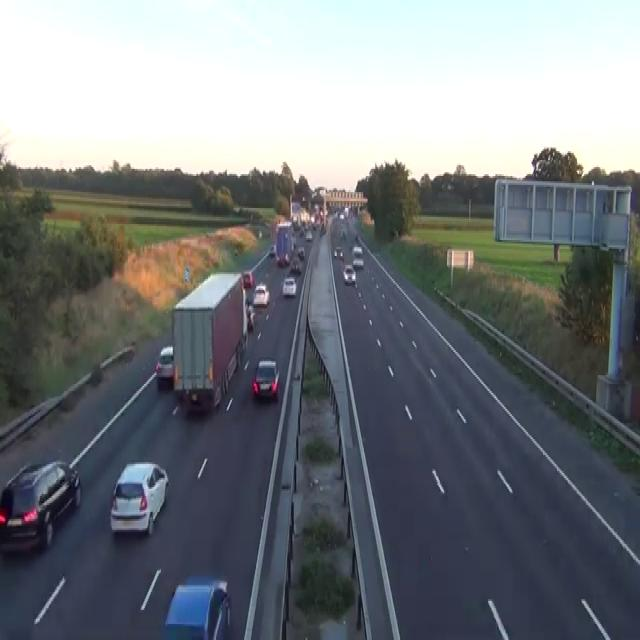Car: (0, 458, 81, 554), (109, 461, 169, 535), (163, 576, 231, 638), (252, 359, 279, 398), (155, 345, 174, 386), (252, 282, 270, 306), (282, 275, 296, 297), (343, 265, 356, 284), (246, 304, 255, 331), (242, 270, 254, 288), (91, 363, 102, 382), (160, 345, 173, 359), (276, 252, 289, 266), (290, 256, 300, 274), (125, 347, 135, 362), (333, 246, 343, 260), (352, 256, 364, 267), (352, 245, 362, 256), (290, 231, 296, 249), (319, 222, 327, 235), (297, 246, 304, 260), (269, 244, 276, 256), (339, 226, 346, 238), (292, 215, 298, 229), (305, 229, 312, 240), (446, 182, 454, 190), (233, 204, 240, 213), (298, 228, 304, 236), (344, 206, 348, 217), (333, 210, 338, 217), (441, 183, 446, 190), (258, 230, 262, 238), (339, 212, 344, 218)
Truck: (171, 270, 248, 412), (274, 220, 295, 266), (290, 201, 301, 229)
